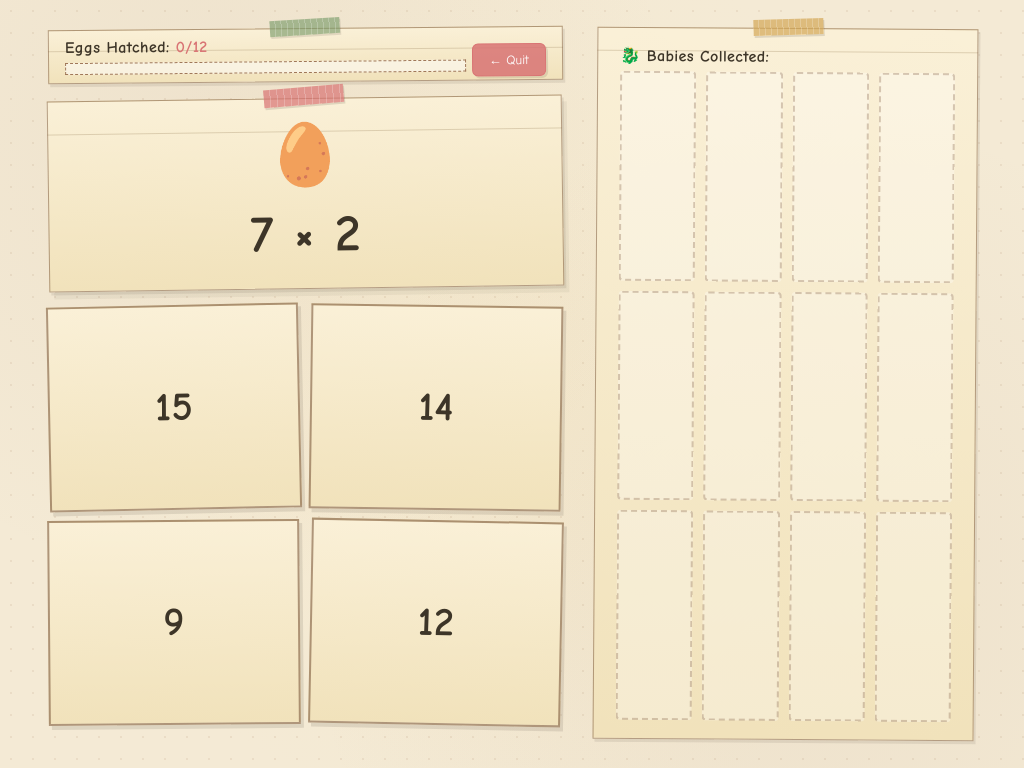
Scenario: DragonEggHatchery — hatching › keeps the child on the same problem after a wrong answer
Click the button "15" at (174, 407), box [46,302,302,512]
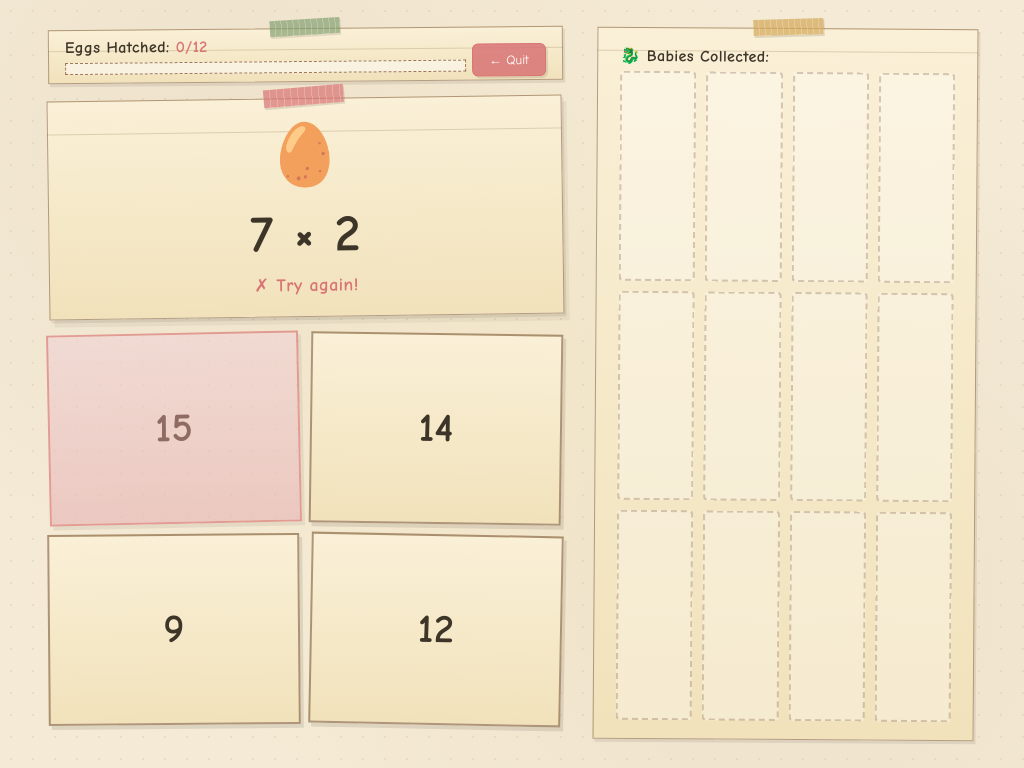
Now the text "✗ Try again!" is shown, box [254,274,359,297]
